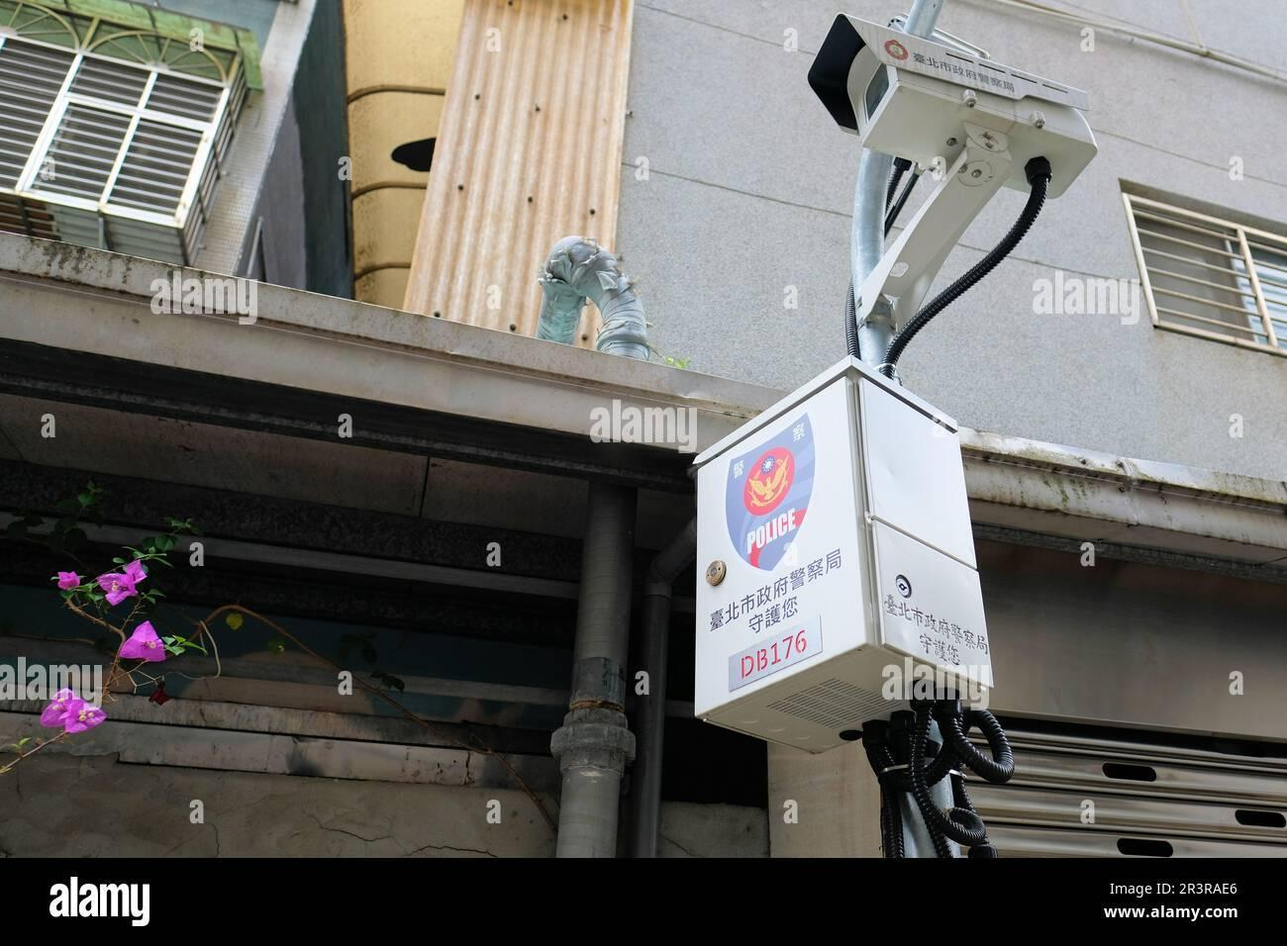Monitor: (809, 0, 1114, 238)
